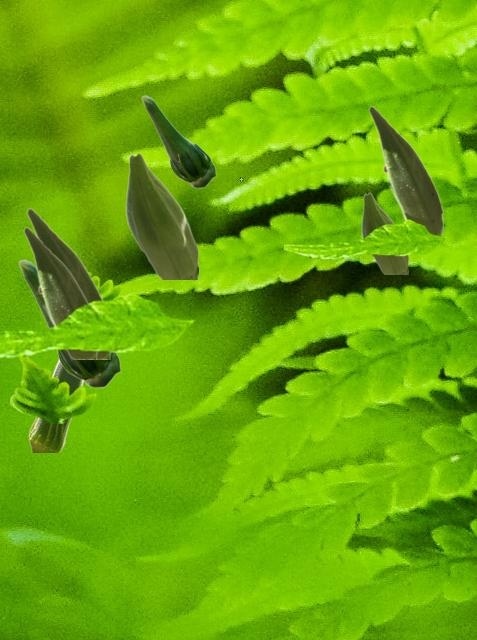okra: (18, 259, 120, 387), (26, 207, 111, 358), (23, 226, 97, 358), (368, 105, 442, 234), (125, 152, 197, 278), (141, 95, 215, 187), (28, 360, 83, 451), (361, 192, 407, 273)
